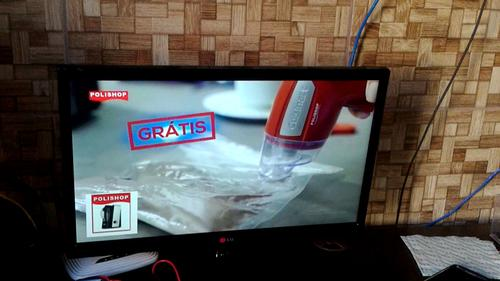Polishop #1: (86, 191, 138, 239)
